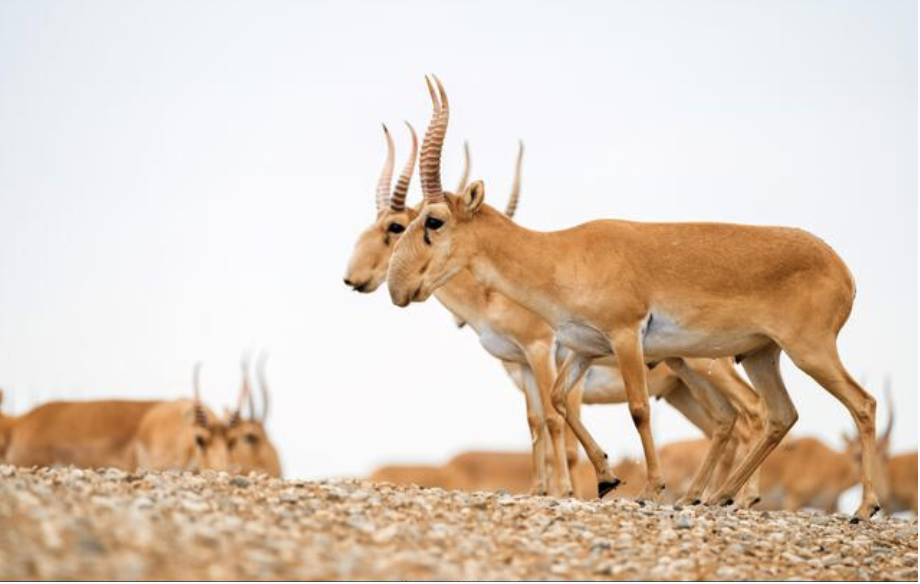saiga: (384, 66, 890, 524)
